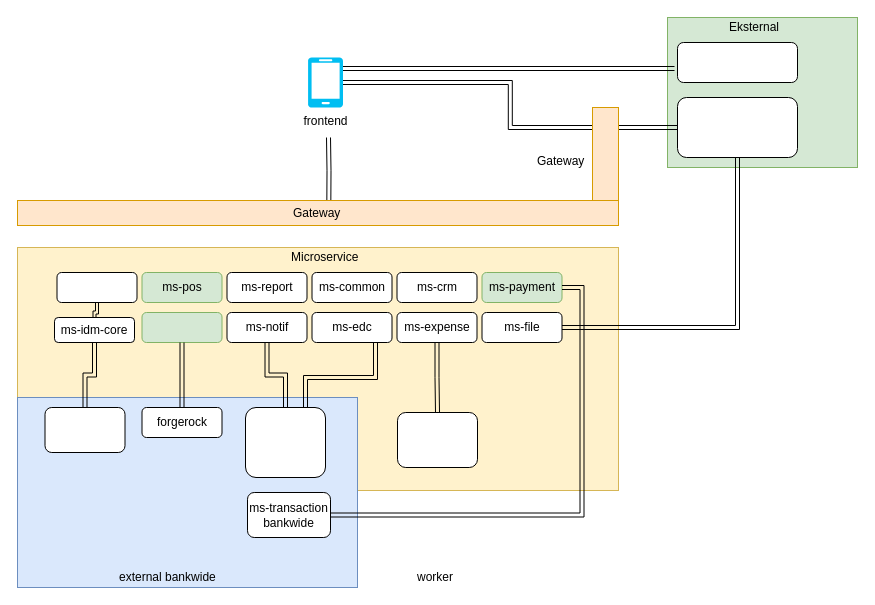
Image size: 875x605. Some labels were removed from this diagram. The shapes that lost their labels are listed below. From the top down, each one's box as (x1, y1, x2, y2) in pixels, then its label:
(676, 42, 798, 82): firebase to listen to notif
(676, 96, 798, 158): Minio (for upload & access file storage)
(56, 272, 137, 302): ms-gql-auth
(141, 312, 222, 342): ms-idm
(44, 406, 125, 452): Forgerock Jen
(244, 406, 326, 478): ms-common bankwide - send email - send notif
(396, 412, 478, 468): worker-recurring-expense
